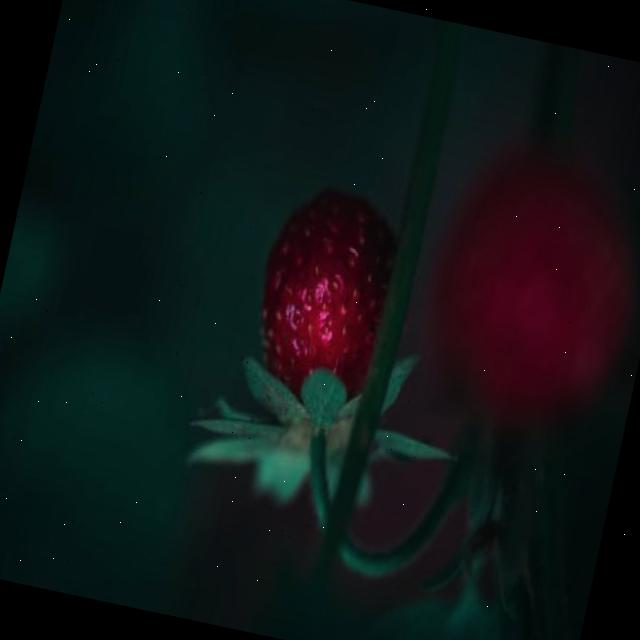strawberry: (238, 182, 406, 414)
